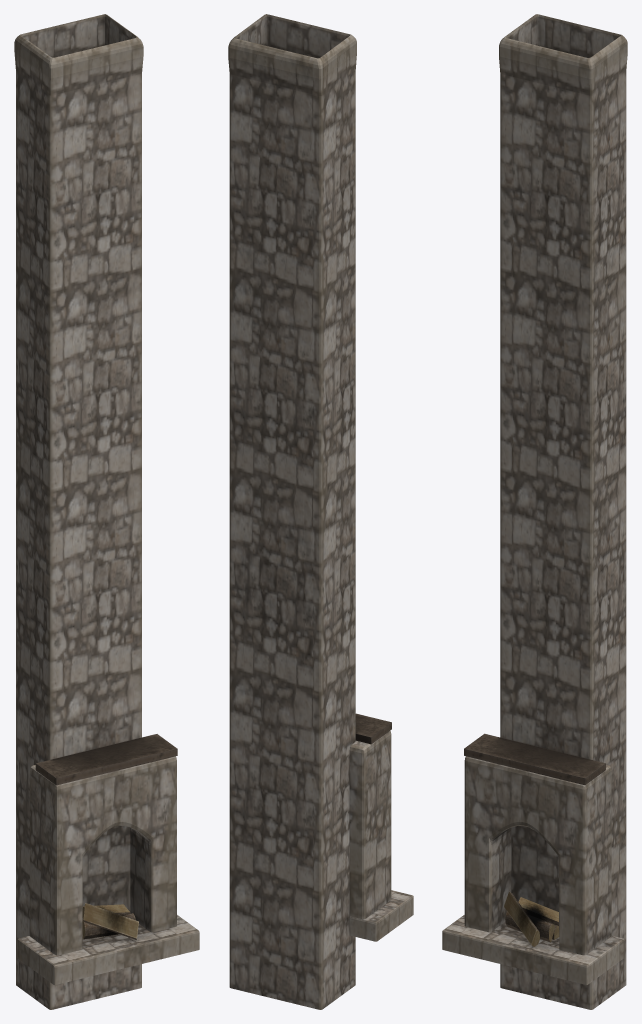
The model's file is BW_ElderCottage01_Chimney.fbx.
The picture shows the model from 3 angles, left to right: view 1: azimuth 30°, elevation 25°; view 2: azimuth 150°, elevation 25°; view 3: azimuth 330°, elevation 25°; orthographic projection.
Visible parts, largest first — view 1: BW_ElderCottage01_Chimney; view 2: BW_ElderCottage01_Chimney; view 3: BW_ElderCottage01_Chimney.
Part boxes in pixels (<box>): BW_ElderCottage01_Chimney: <box>14,14,199,1009</box>; BW_ElderCottage01_Chimney: <box>228,14,413,1009</box>; BW_ElderCottage01_Chimney: <box>442,14,627,1009</box>.
Size of the model in its own units: 1 by 6.23 by 0.7971.
